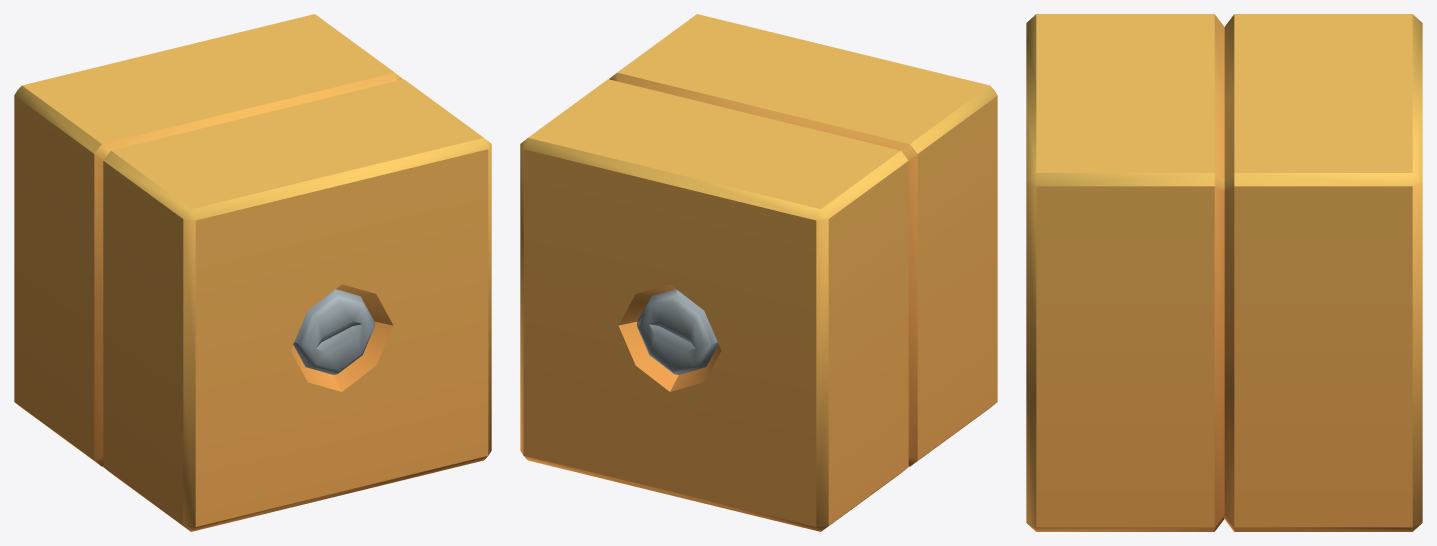
File: platform_decorative_2x2x2_yellow.glb
The picture shows the model from 3 angles, left to right: view 1: azimuth 30°, elevation 25°; view 2: azimuth 150°, elevation 25°; view 3: azimuth 270°, elevation 25°; orthographic projection. The views are drawn at different scales.
Visible parts, largest first — view 1: platform_decorative_2x2x2_yellow; view 2: platform_decorative_2x2x2_yellow; view 3: platform_decorative_2x2x2_yellow.
Boxes of the visible parts, left/top/right/bottom form: platform_decorative_2x2x2_yellow: left=14, top=14, right=491, bottom=531; platform_decorative_2x2x2_yellow: left=520, top=14, right=997, bottom=531; platform_decorative_2x2x2_yellow: left=1026, top=14, right=1422, bottom=531.
Bounding box in the file's own units: 2 × 2 × 2.
Materials: 1 (1 with a texture image).
